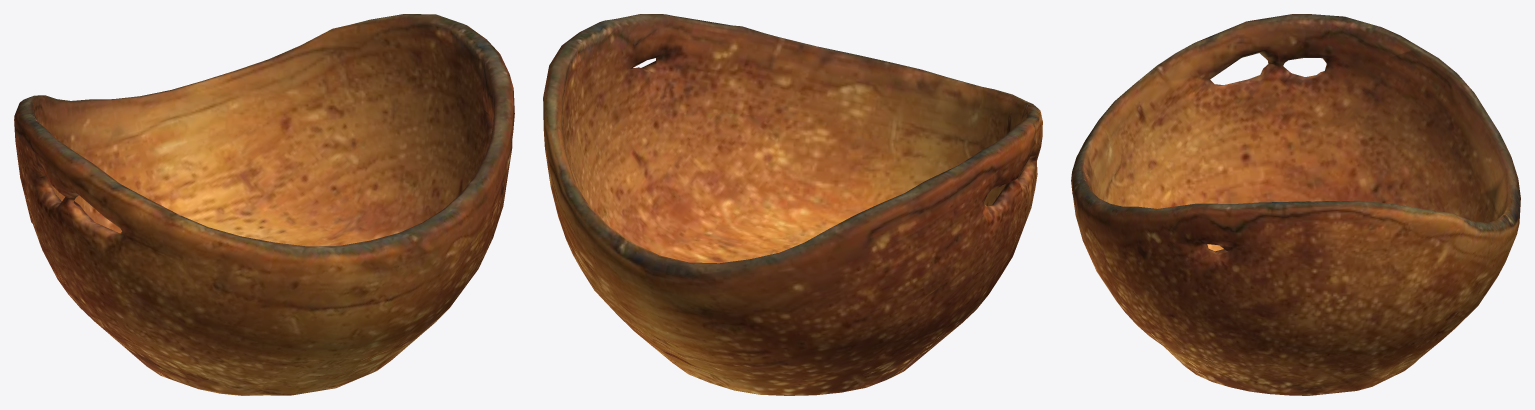
The model's file is wooden_bowl_02-4jLS18nV.glb.
The picture shows the model from 3 angles, left to right: view 1: azimuth 30°, elevation 25°; view 2: azimuth 150°, elevation 25°; view 3: azimuth 270°, elevation 25°; orthographic projection. The views are drawn at different scales.
Visible parts, largest first — view 1: wooden_bowl_02; view 2: wooden_bowl_02; view 3: wooden_bowl_02.
Boxes of the visible parts, bbox=[...] form: wooden_bowl_02: bbox=[14, 14, 514, 395]; wooden_bowl_02: bbox=[543, 14, 1042, 395]; wooden_bowl_02: bbox=[1071, 14, 1520, 395].
Bounding box in the file's own units: 0.1307 × 0.0731 × 0.1245.
Materials: 1 (1 with a texture image).
